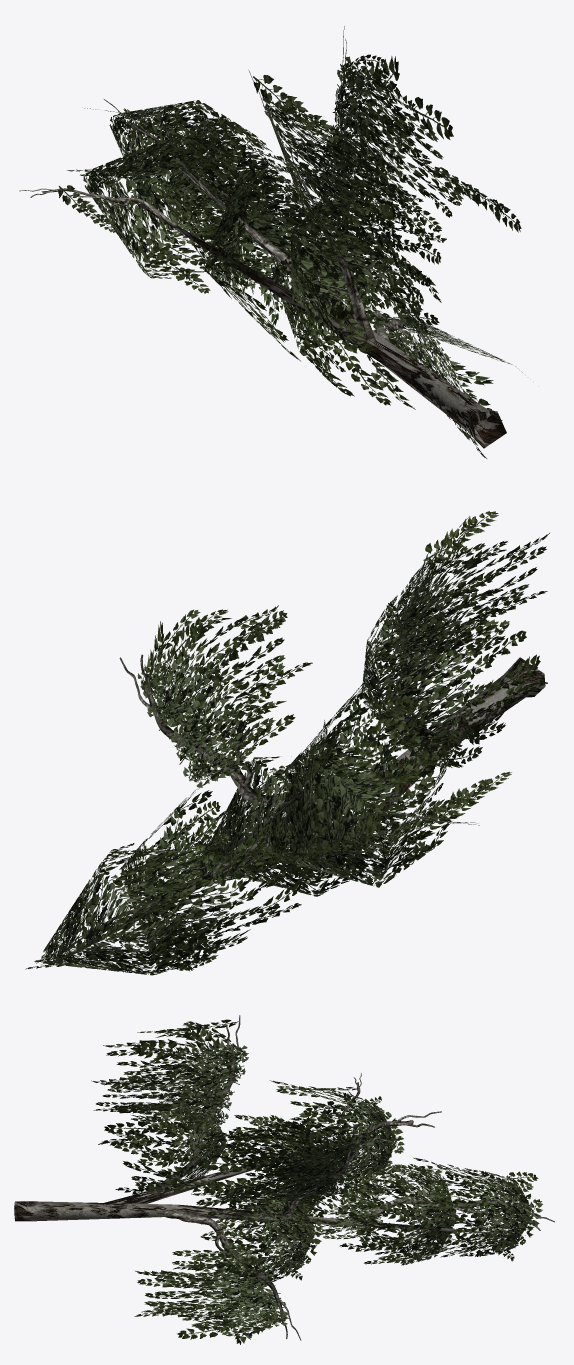
File: MEP_Birch_01_b.fbx
3 renders of one model, top to bottom at view 1: azimuth 30°, elevation 25°; view 2: azimuth 150°, elevation 25°; view 3: azimuth 270°, elevation 25°, orthographic. The views are drawn at different scales.
Visible parts, largest first — view 1: MEP_Birch_01_b, MEP_Birch_Bark_01_b; view 2: MEP_Birch_01_b, MEP_Birch_Bark_01_b; view 3: MEP_Birch_01_b, MEP_Birch_Bark_01_b.
Boxes of the visible parts, x1,y1,x2,y2 form: MEP_Birch_01_b: [19, 26, 522, 458]; MEP_Birch_Bark_01_b: [108, 146, 506, 448]; MEP_Birch_01_b: [25, 511, 549, 975]; MEP_Birch_Bark_01_b: [54, 657, 545, 964]; MEP_Birch_01_b: [91, 1015, 554, 1344]; MEP_Birch_Bark_01_b: [14, 1135, 525, 1235].
Bounding box in the file's own units: 8.39 × 7.83 × 14.67.
